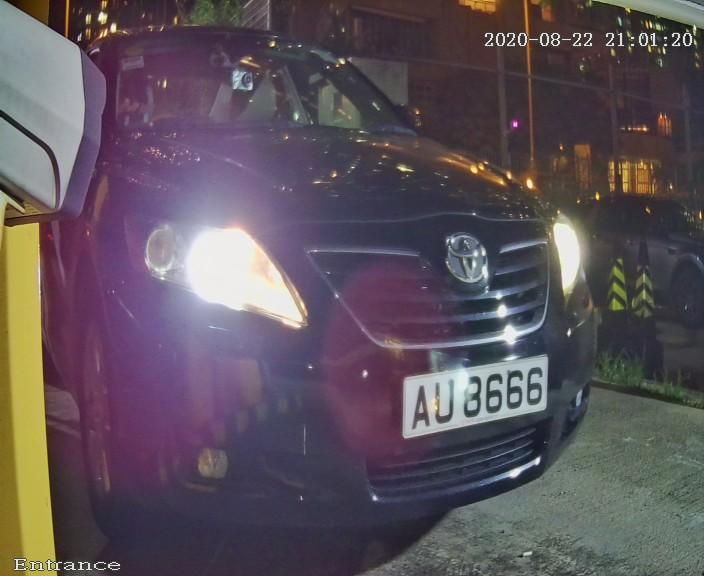Car: (13, 1, 642, 569)
License Plate: (373, 340, 575, 449)
